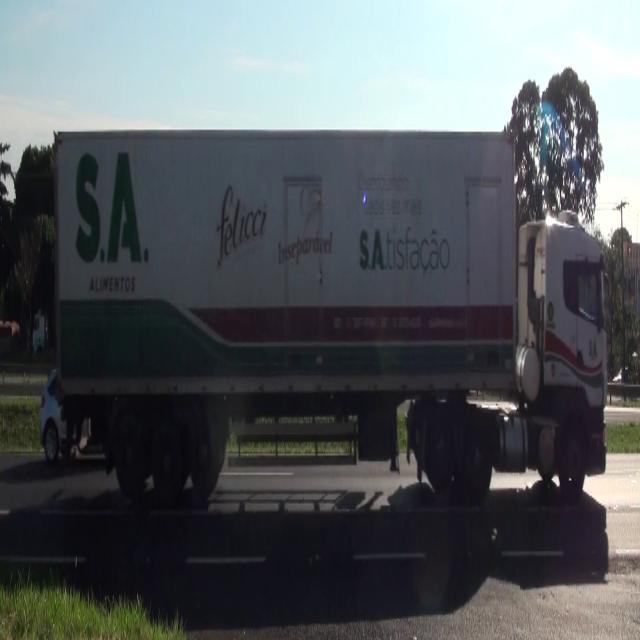-axle: (458, 416, 494, 501), (116, 405, 149, 497), (155, 411, 187, 501), (557, 416, 589, 500), (190, 415, 220, 491), (429, 410, 456, 492)
